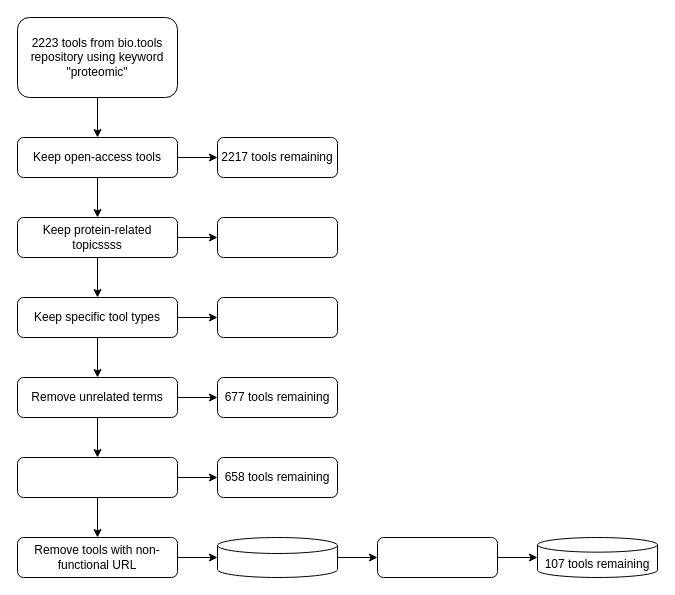
Some shapes in this 675 by 595 pixel diagram are drawn without their labels. Each missing label, with the centre of its shape:
2171 tools remaining: (277,237)
605 tools remaining: (277,557)
970 tools remaining: (277,317)
Citation count >100: (437,557)
Remove tools with no DOI: (97,477)
